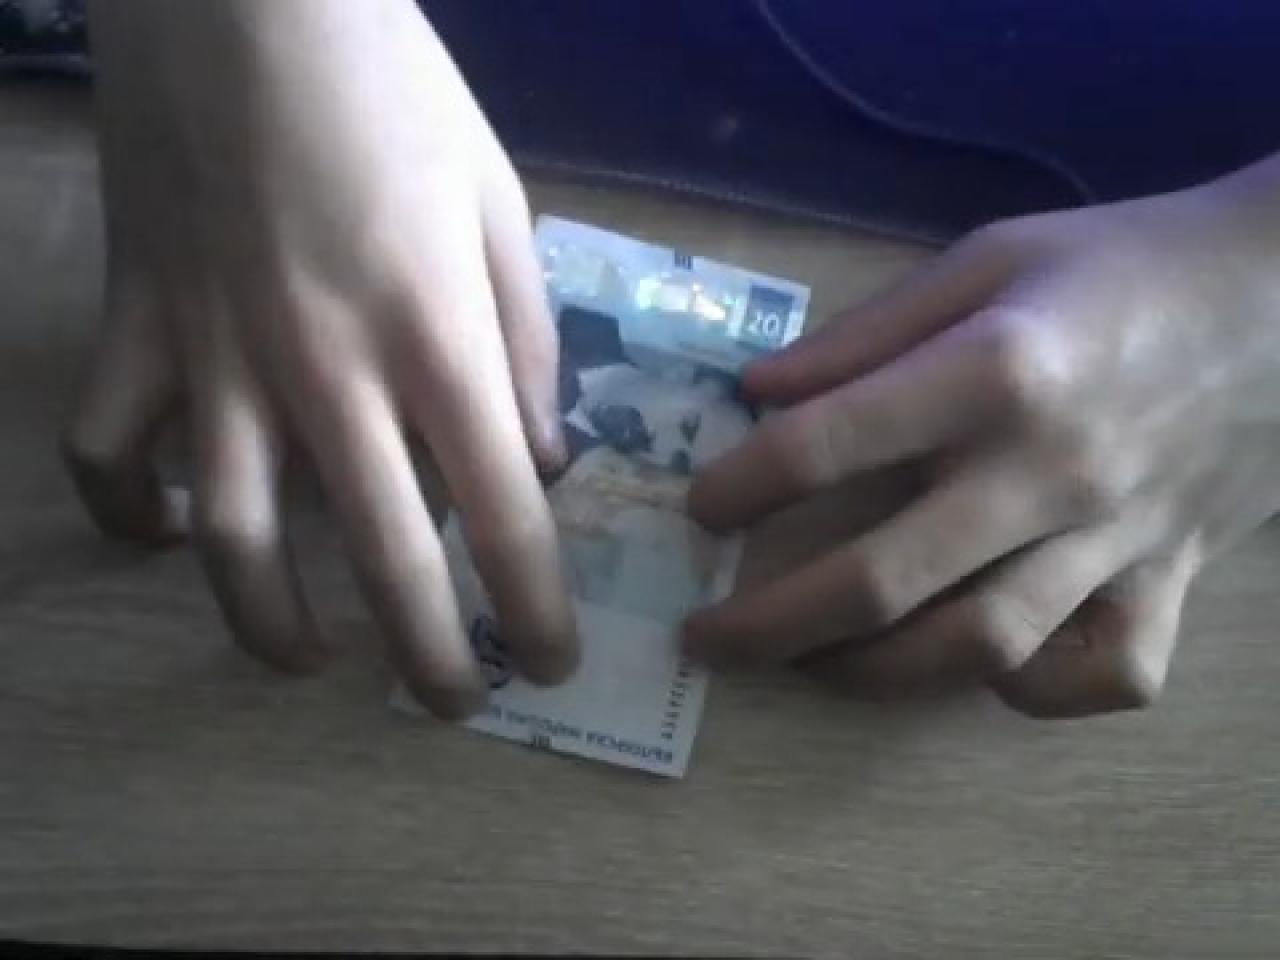20leva: (538, 219, 813, 480)
